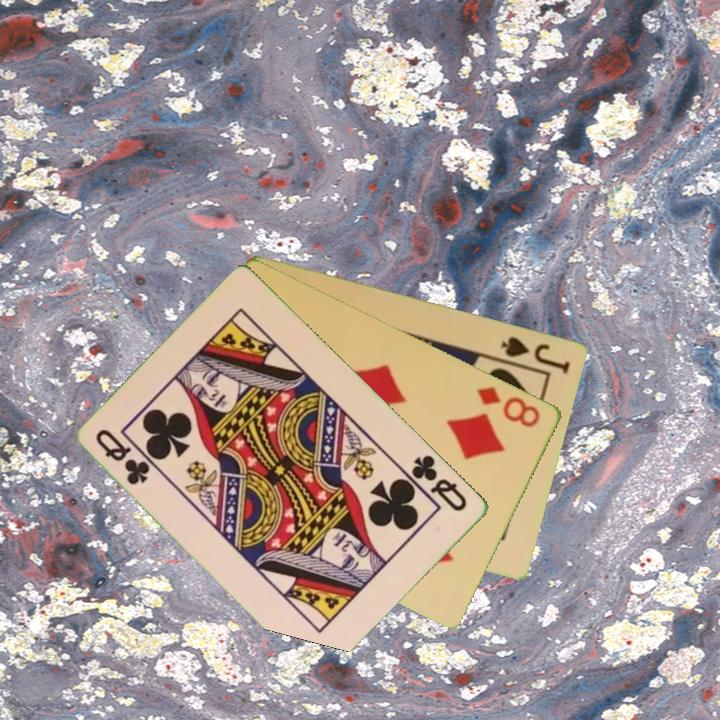8d: (474, 382, 544, 430)
Js: (498, 332, 574, 376)
Qc: (408, 451, 471, 514), (93, 425, 154, 488)
